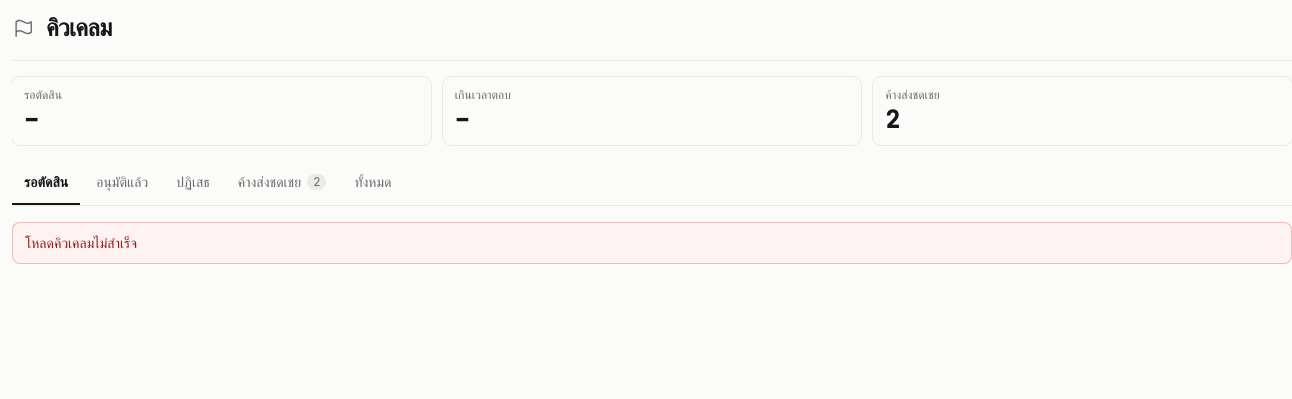
Scenario: a claims failure shows a Thai error but keeps the backorders tab working
Expected: the text "โหลดคิวเคลมไม่สำเร็จ" is shown, 12,222 -> 1291,264
Click the tab "ค้างส่งชดเชย 2": point(282, 183) 226,161 -> 338,205
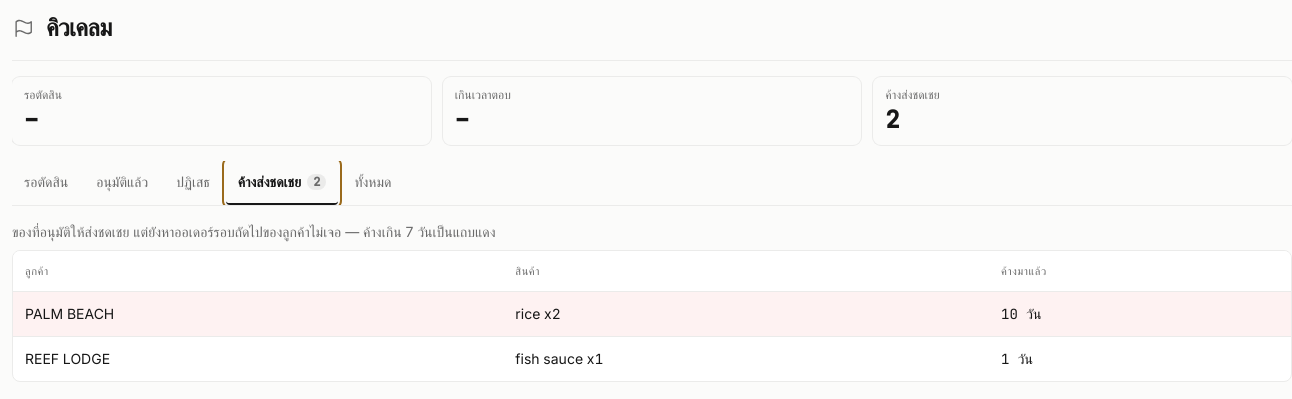
Now the text "PALM BEACH" is shown, box 13,292 -> 503,336
